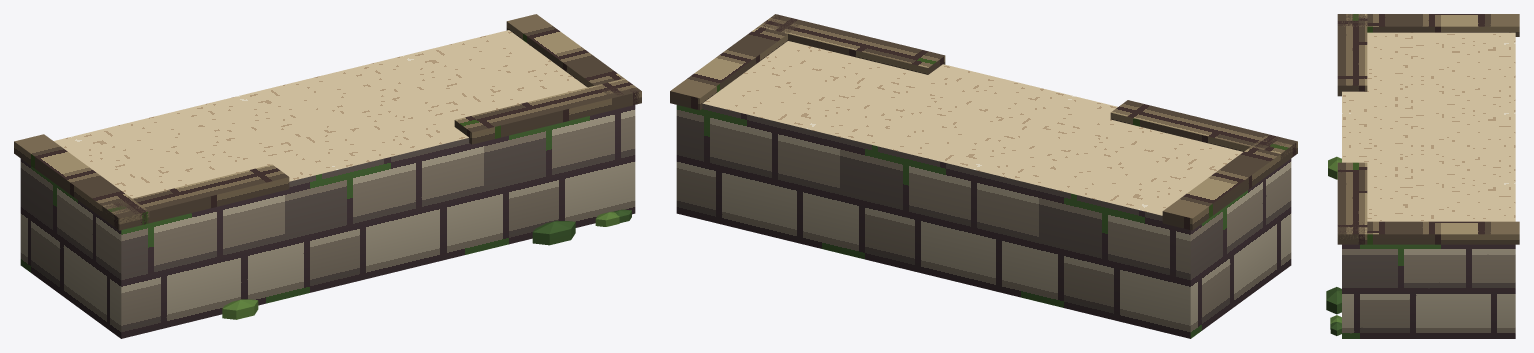
The model's file is scene_plat_g7.glb.
3 renders of one model, left to right at view 1: azimuth 30°, elevation 25°; view 2: azimuth 150°, elevation 25°; view 3: azimuth 270°, elevation 25°, orthographic. The views are drawn at different scales.
Visible parts, largest first — view 1: scene_plat_g7; view 2: scene_plat_g7; view 3: scene_plat_g7.
Part boxes in pixels (x1=…): scene_plat_g7: x1=14, y1=14, x2=641, y2=338; scene_plat_g7: x1=670, y1=14, x2=1297, y2=338; scene_plat_g7: x1=1326, y1=14, x2=1519, y2=338.
Bounding box in the file's own units: 6.3 × 1.51 × 2.34.
3 materials, 2 textured.
